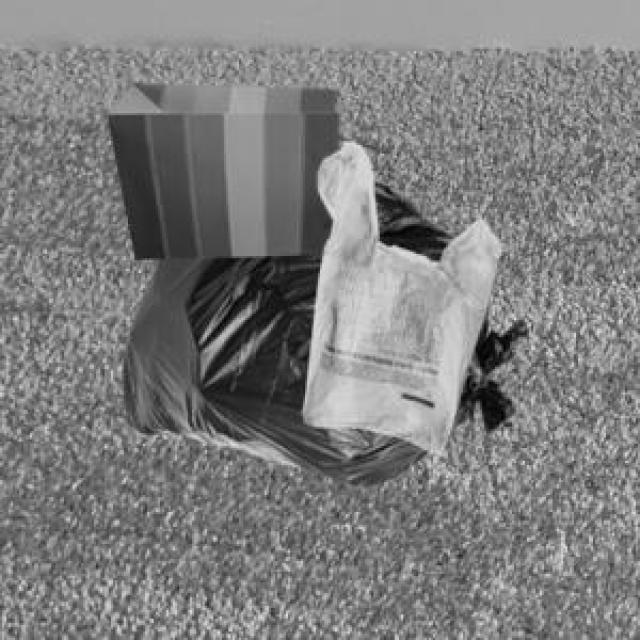miscellaneous trash: (120, 175, 523, 482)
paper: (105, 81, 335, 256)
